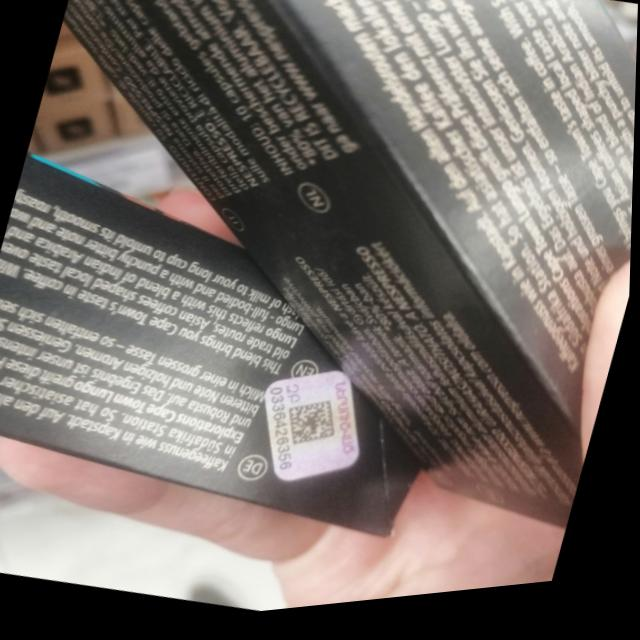datamatrix: (281, 396, 352, 465)
